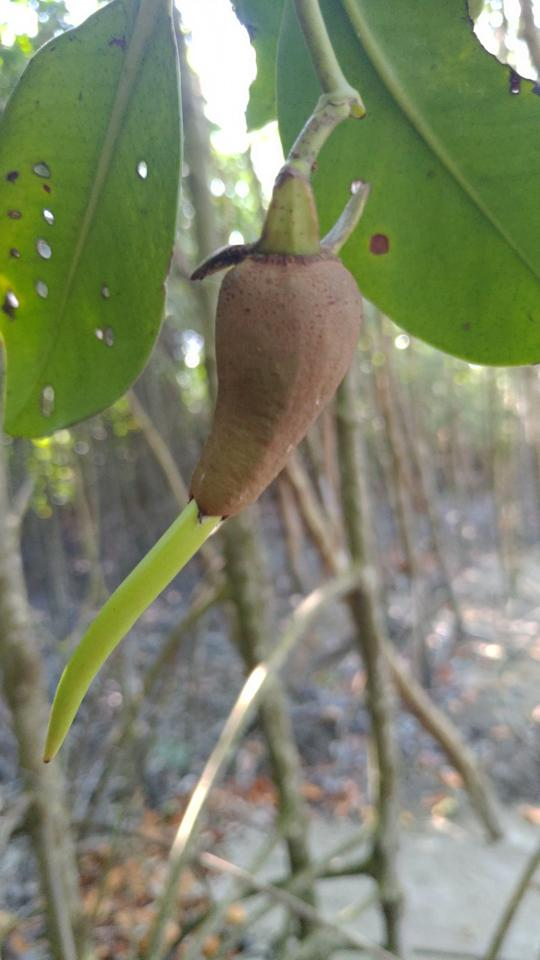mentah: (26, 189, 387, 771)
